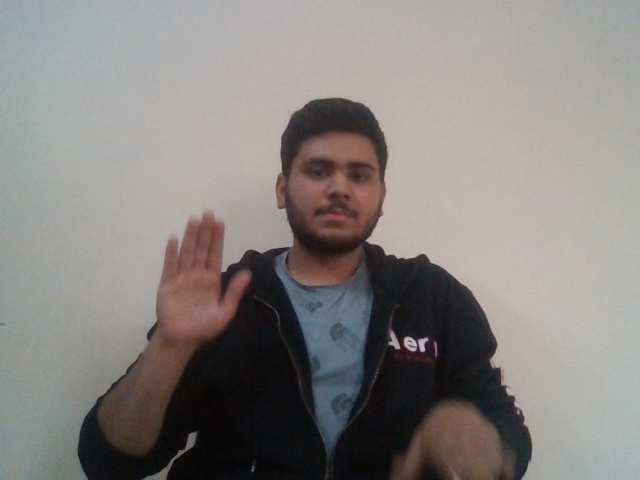Hello: (134, 209, 256, 334)
